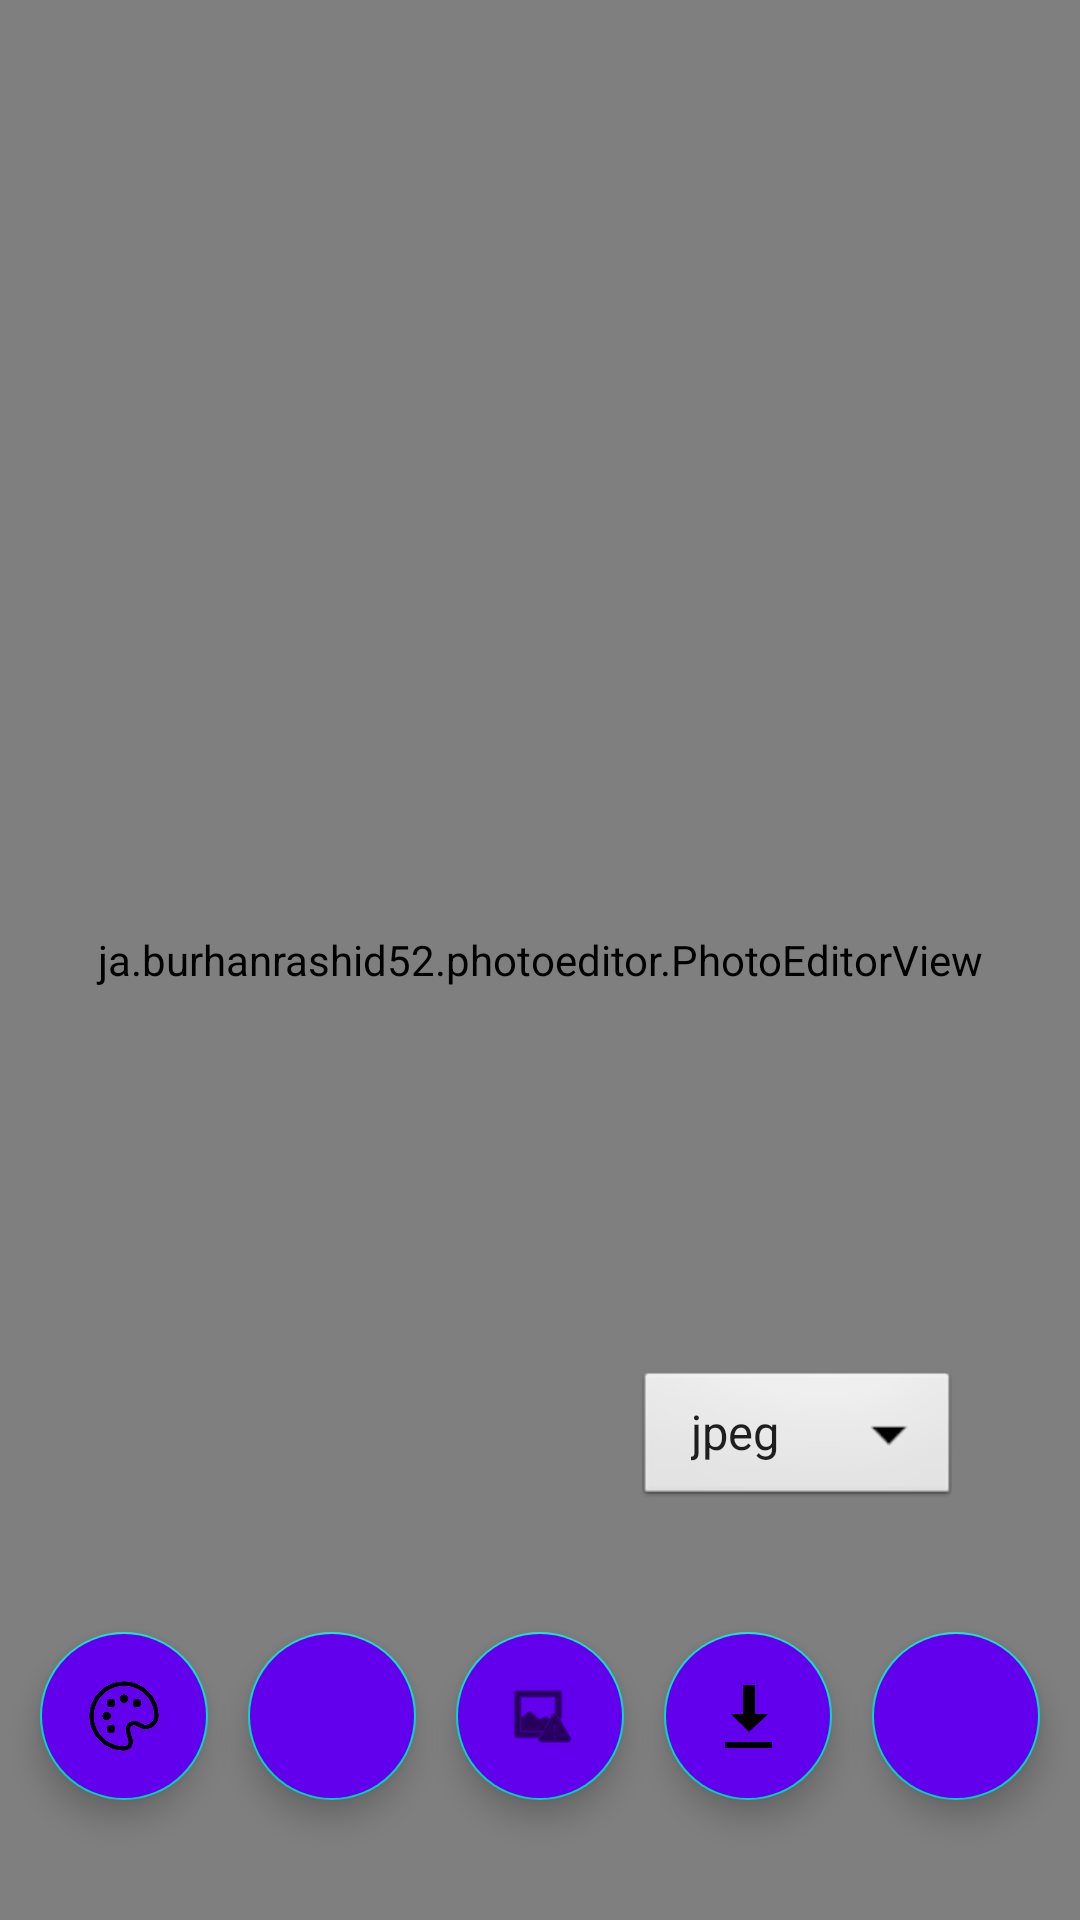

Icons on this 1080x1920 Android screen, each with its box as Rect(x1, y1, x2, y2):
download: Rect(664, 1632, 832, 1800)
